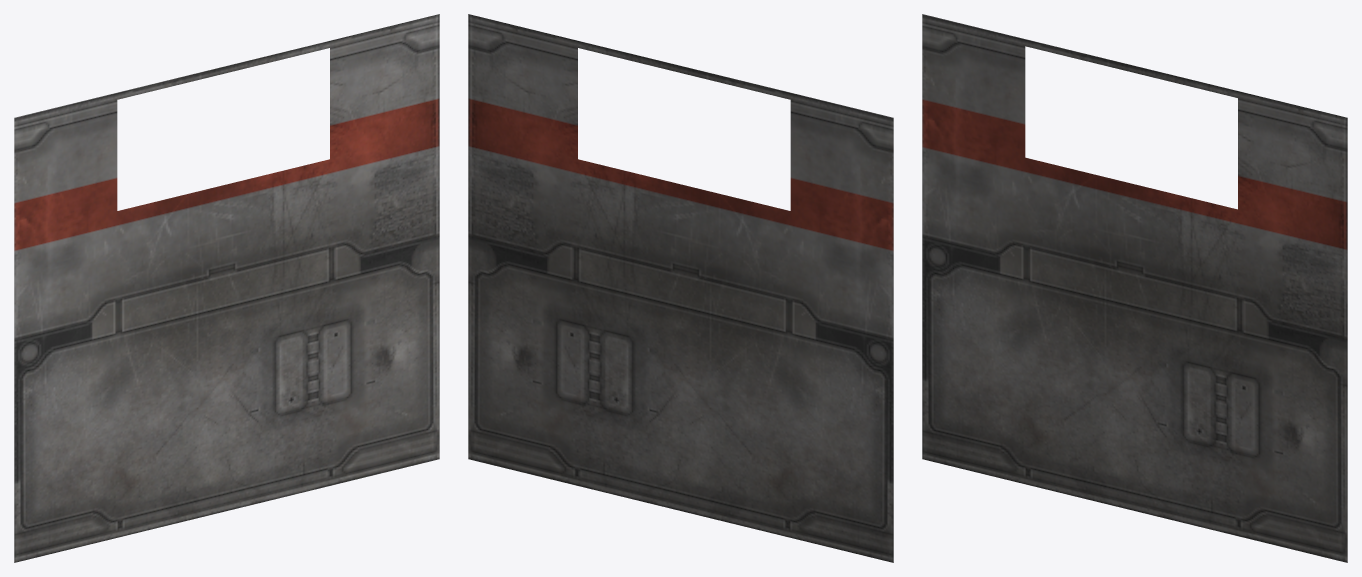
File: 04_02_reactorwall_large_window.DAE
3 renders of one model, left to right at view 1: azimuth 30°, elevation 25°; view 2: azimuth 150°, elevation 25°; view 3: azimuth 330°, elevation 25°, orthographic.
Visible parts, largest first — view 1: Object006; view 2: Object006; view 3: Object006.
Part boxes in pixels (<box>): Object006: <box>14,14,439,562</box>; Object006: <box>468,14,893,562</box>; Object006: <box>922,14,1347,562</box>.
Bounding box in the file's own units: 8 × 8 × 1e-06.
